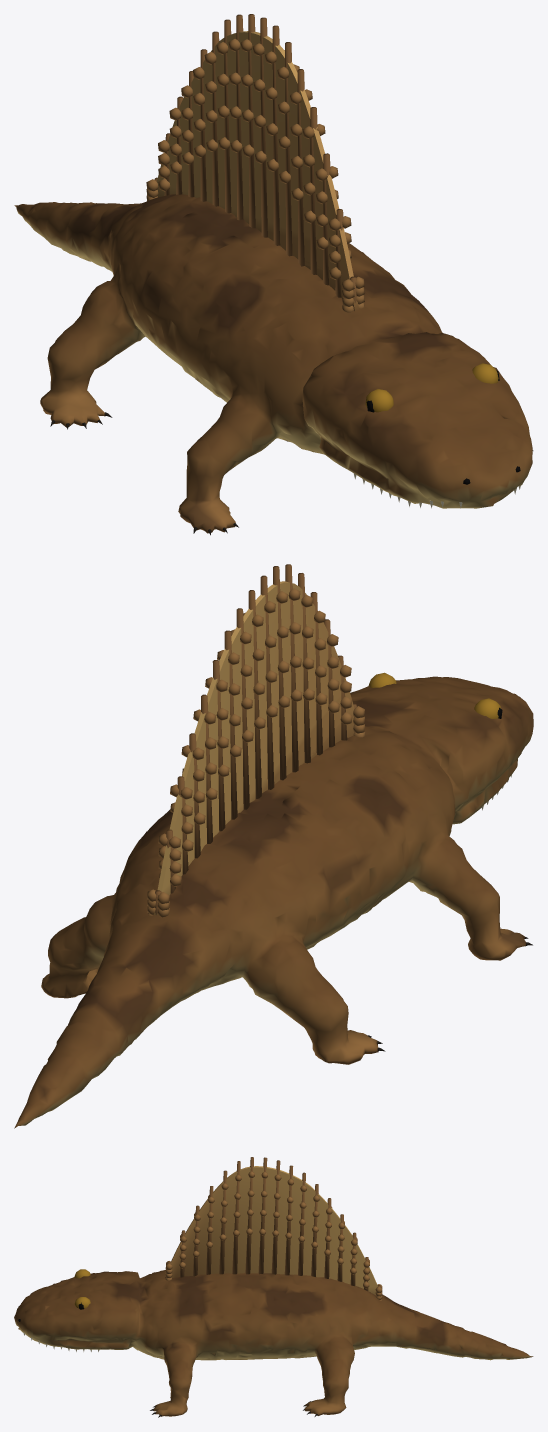
The model's file is Platyhystrix.fbx.
The picture shows the model from 3 angles, top to bottom: view 1: azimuth 30°, elevation 25°; view 2: azimuth 150°, elevation 25°; view 3: azimuth 270°, elevation 25°; orthographic projection. The views are drawn at different scales.
Parts seen in each view (by area): view 1: Platyhystrix; view 2: Platyhystrix; view 3: Platyhystrix.
Boxes of the visible parts, box(x1,y1,x2,y2) form: Platyhystrix: box(14, 14, 533, 535); Platyhystrix: box(14, 564, 533, 1128); Platyhystrix: box(14, 1157, 533, 1417).
Bounding box in the file's own units: 0.5424 × 0.6201 × 1.34.
